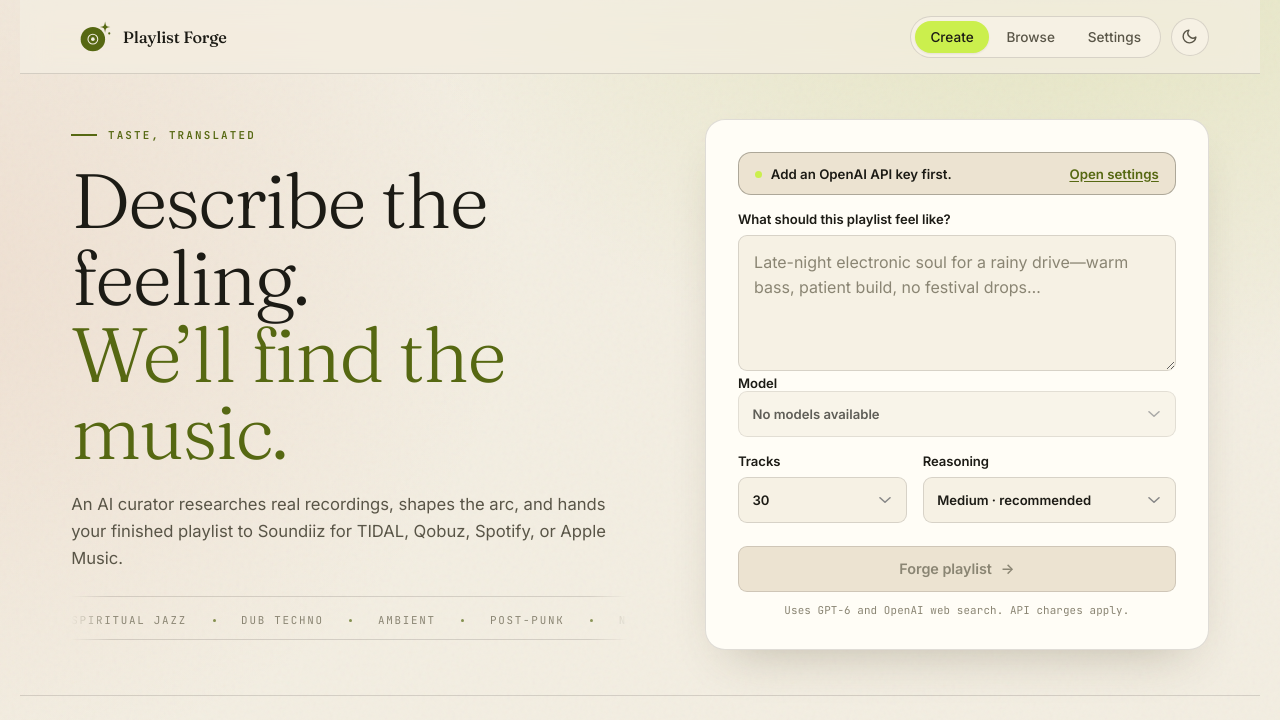
Test: App › clusters Browse selections and seeds them into the composer
Click the button "Browse".
click(1031, 36)  # box [991,20,1070,52]
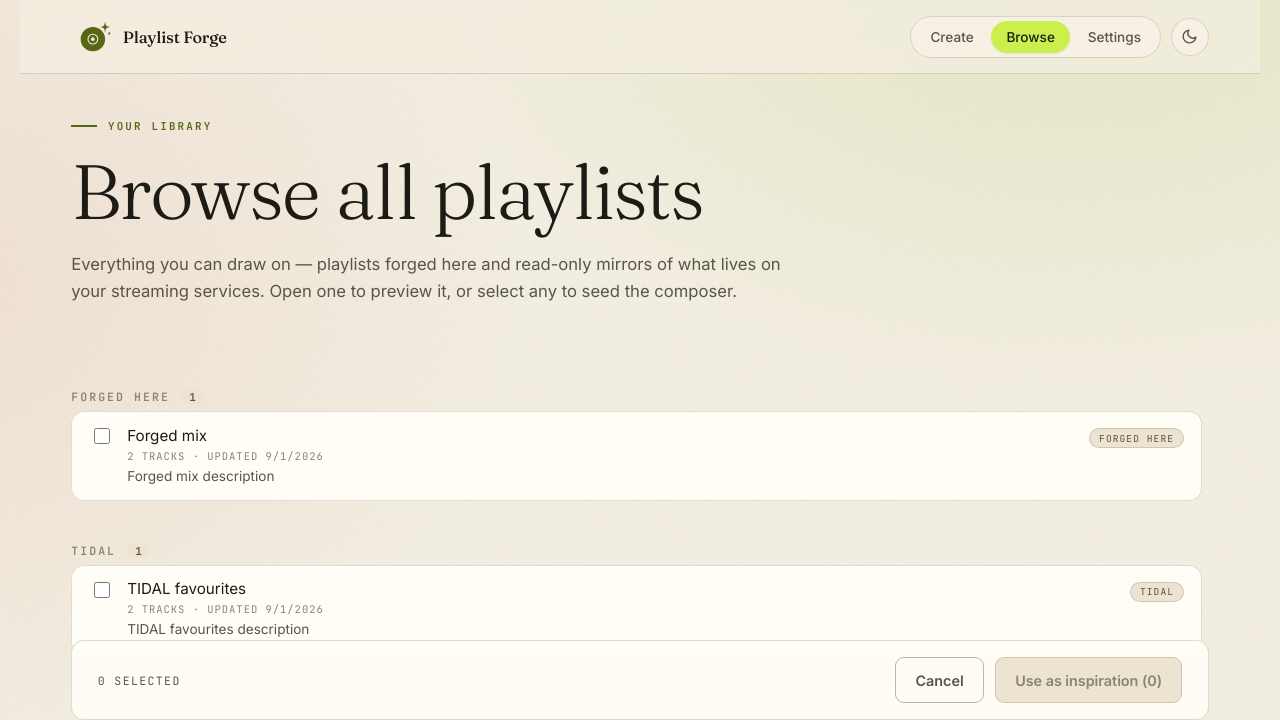
Click the checkbox named "TIDAL favourites".
click(102, 590)  # box [94,582,110,598]
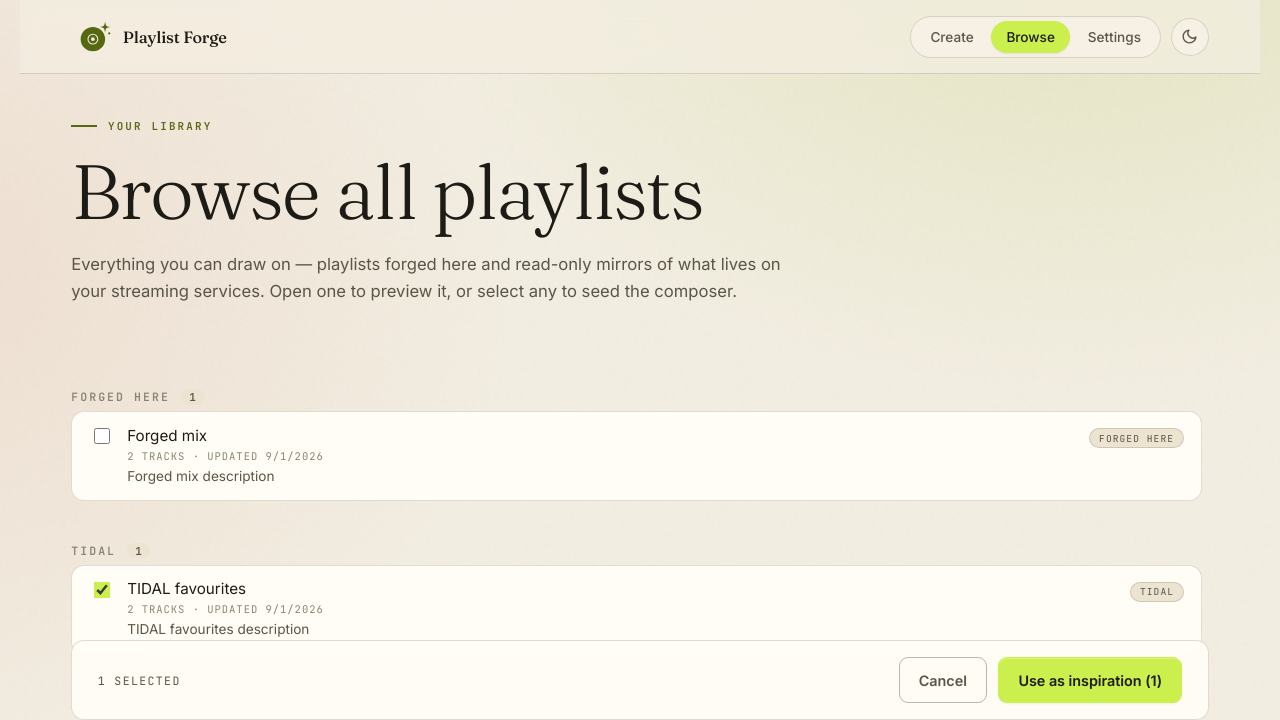
Click the button "Use as inspiration (1)".
click(1090, 680)  # box [998,657,1182,703]
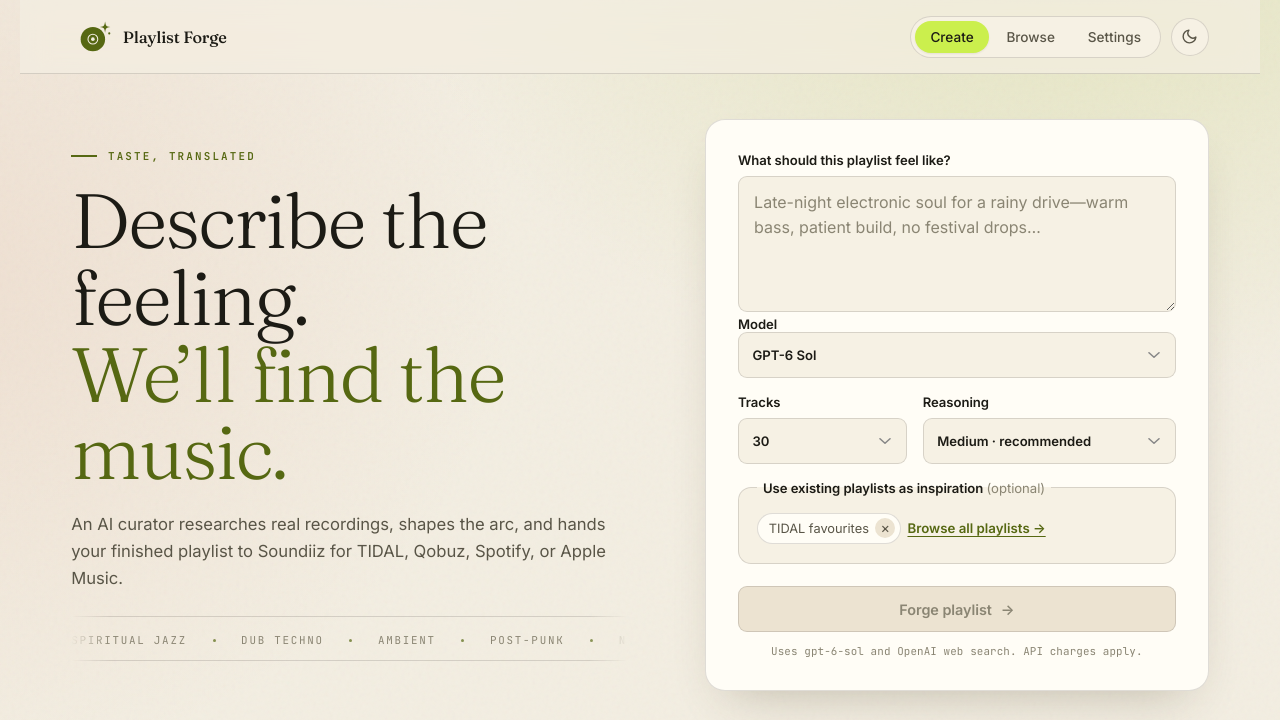
Check: the button "Forge playlist →" is shown, box [738,586,1176,632]
Check: the text "TIDAL favourites" is shown, box [769,521,869,536]
